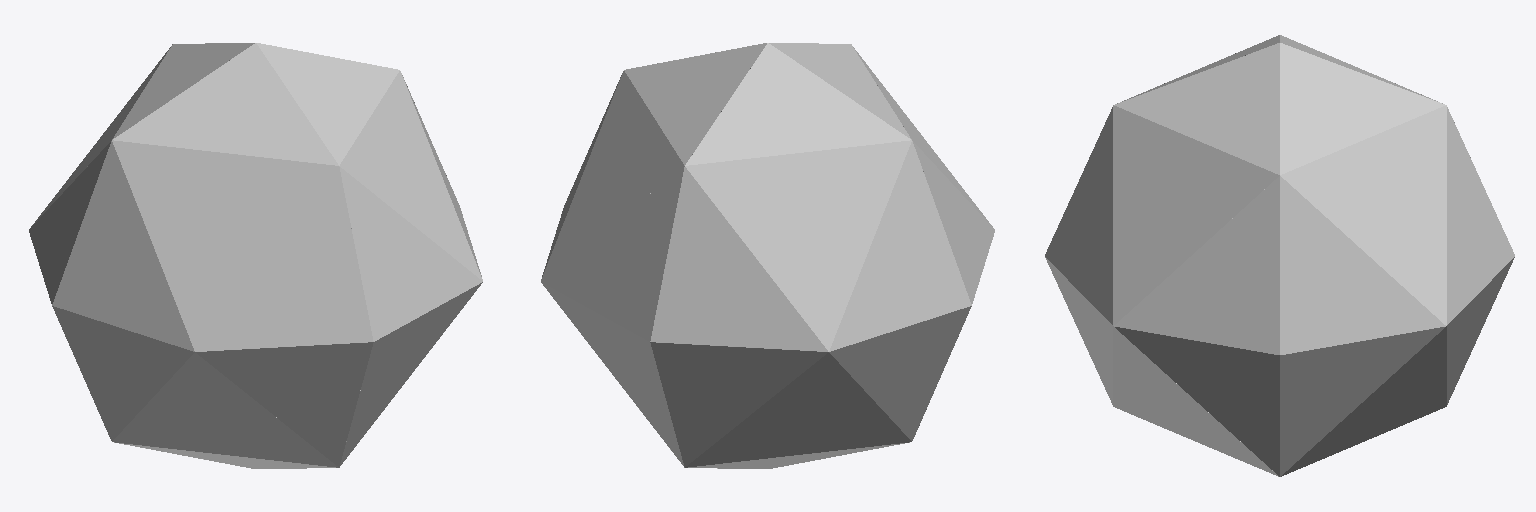
File: qlamp.obj
The picture shows the model from 3 angles: view 1: azimuth 30°, elevation 25°; view 2: azimuth 150°, elevation 25°; view 3: azimuth 270°, elevation 25°; orthographic projection.
Visible parts, largest first — view 1: qlamp; view 2: qlamp; view 3: qlamp.
Part boxes in pixels (left/top/right/bottom): qlamp: left=29, top=43, right=482, bottom=468; qlamp: left=541, top=43, right=994, bottom=468; qlamp: left=1045, top=35, right=1514, bottom=476.
Bounding box in the file's own units: 1 × 1 × 1.